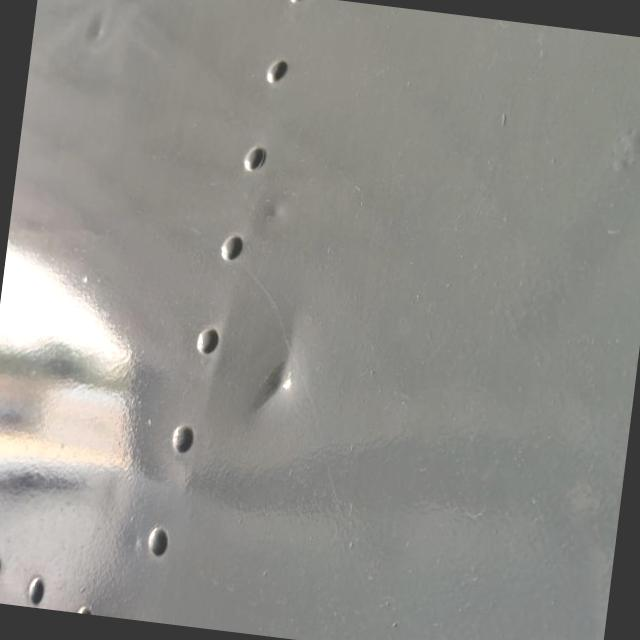dent: (222, 288, 322, 443)
